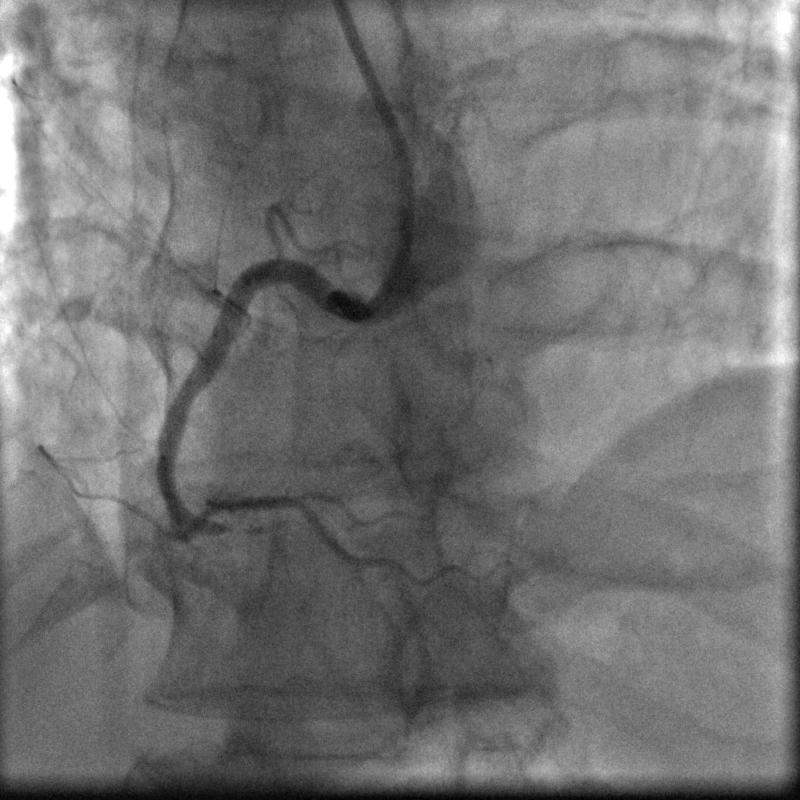Stenosis: (189, 508, 250, 538)
